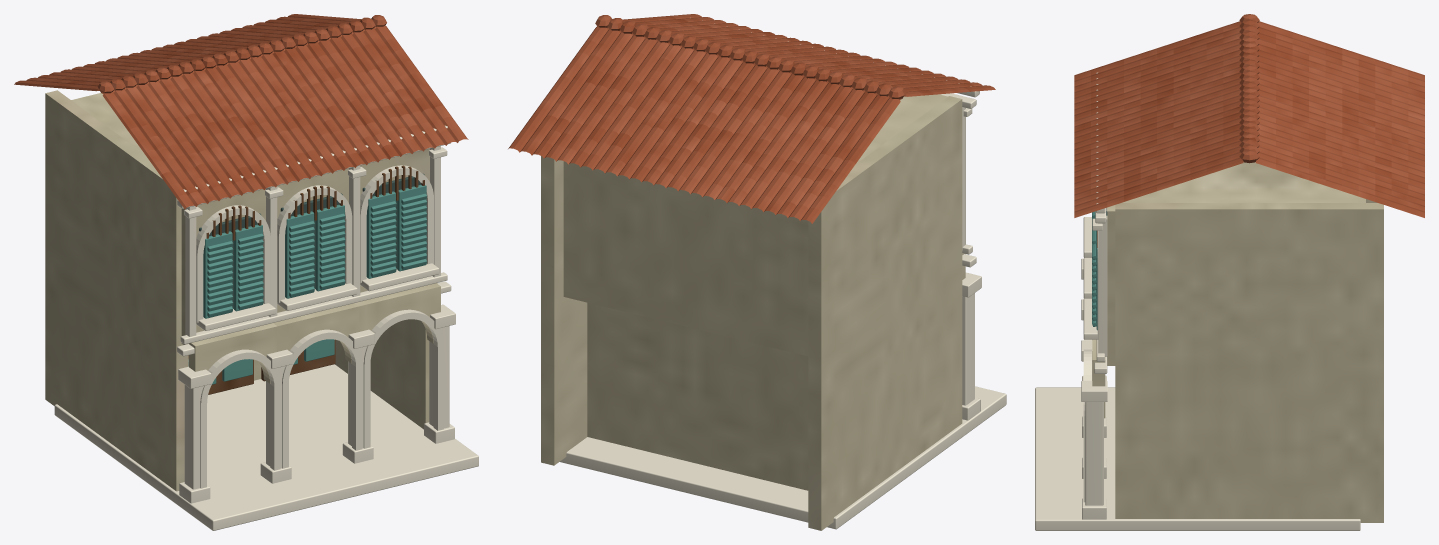
The model's file is shophouse.glb.
3 renders of one model, left to right at view 1: azimuth 30°, elevation 25°; view 2: azimuth 150°, elevation 25°; view 3: azimuth 270°, elevation 25°, orthographic. The views are drawn at different scales.
Visible parts, largest first — view 1: Heritage_Shophouse_Original; view 2: Heritage_Shophouse_Original; view 3: Heritage_Shophouse_Original.
Boxes of the visible parts, x1=… form: Heritage_Shophouse_Original: x1=14, y1=14, x2=478, y2=530; Heritage_Shophouse_Original: x1=508, y1=14, x2=1006, y2=530; Heritage_Shophouse_Original: x1=1035, y1=14, x2=1424, y2=530.
Bounding box in the file's own units: 6.56 × 8.16 × 7.54.
6 materials, 3 textured.
